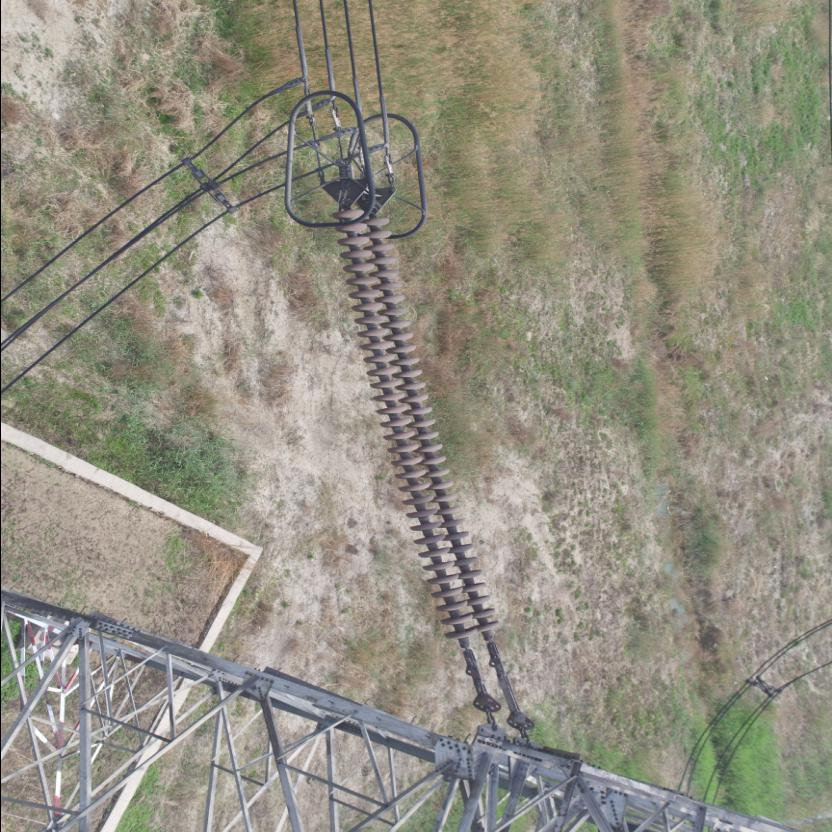insulator: (326, 192, 506, 682)
